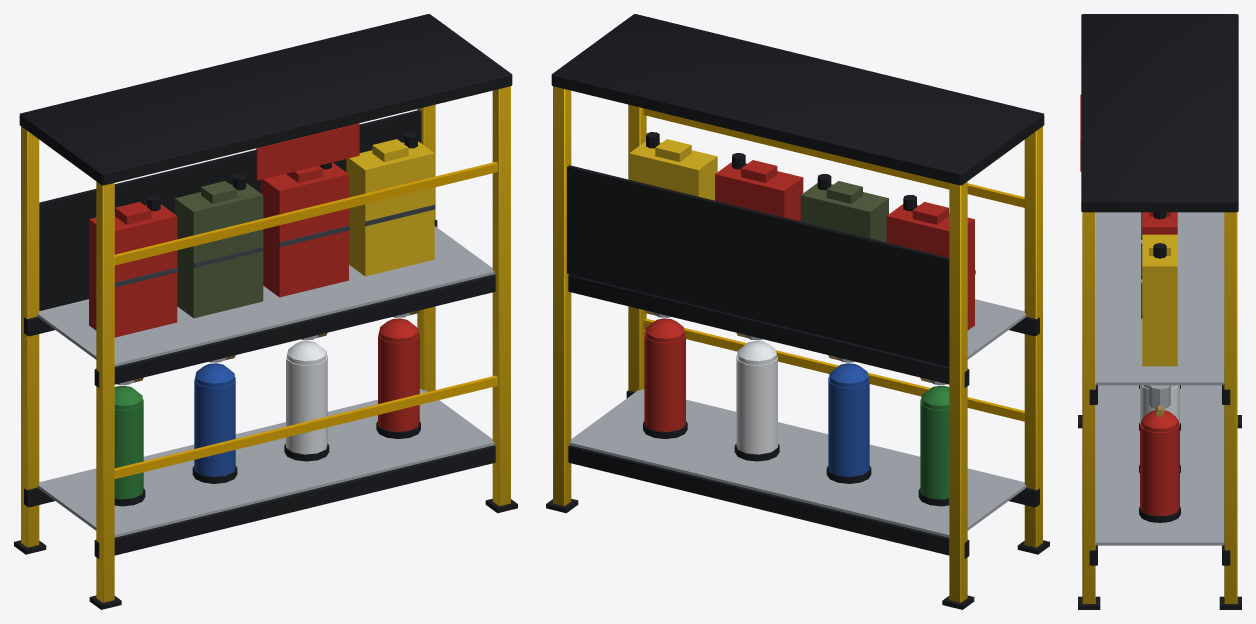
Rendered from shelving_gas_and_fuel_shelf.glb.
The picture shows the model from 3 angles, left to right: view 1: azimuth 30°, elevation 25°; view 2: azimuth 150°, elevation 25°; view 3: azimuth 270°, elevation 25°; orthographic projection. The views are drawn at different scales.
Visible parts, largest first — view 1: shelving_gas_and_fuel_shelf; view 2: shelving_gas_and_fuel_shelf; view 3: shelving_gas_and_fuel_shelf.
Part boxes in pixels (left/top/right/bottom): shelving_gas_and_fuel_shelf: left=14, top=14, right=517, bottom=609; shelving_gas_and_fuel_shelf: left=546, top=14, right=1049, bottom=609; shelving_gas_and_fuel_shelf: left=1078, top=14, right=1241, bottom=609.
Bounding box in the file's own units: 2.04 × 2.03 × 0.74.
